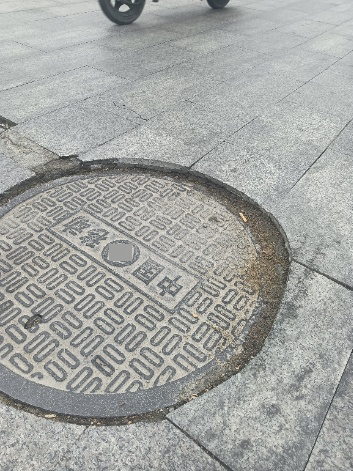good: (1, 169, 276, 416)
